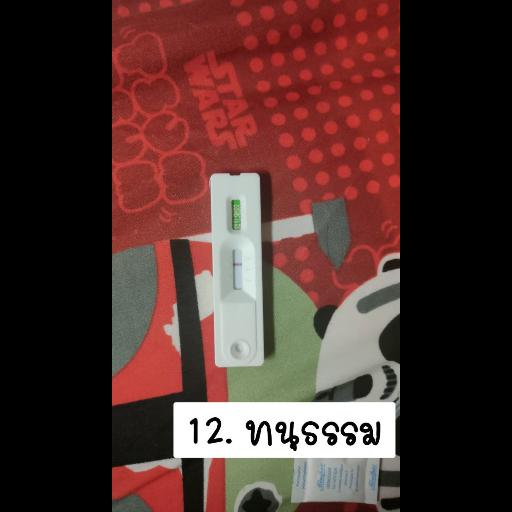Neg: (214, 172, 264, 366)
